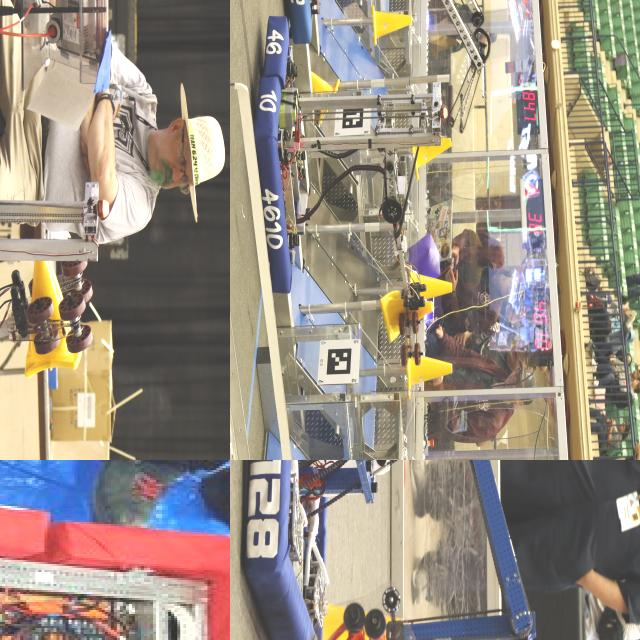FRC-Robots: (263, 0, 460, 293), (234, 460, 545, 640), (0, 25, 111, 460), (0, 472, 230, 640), (272, 0, 494, 127)
